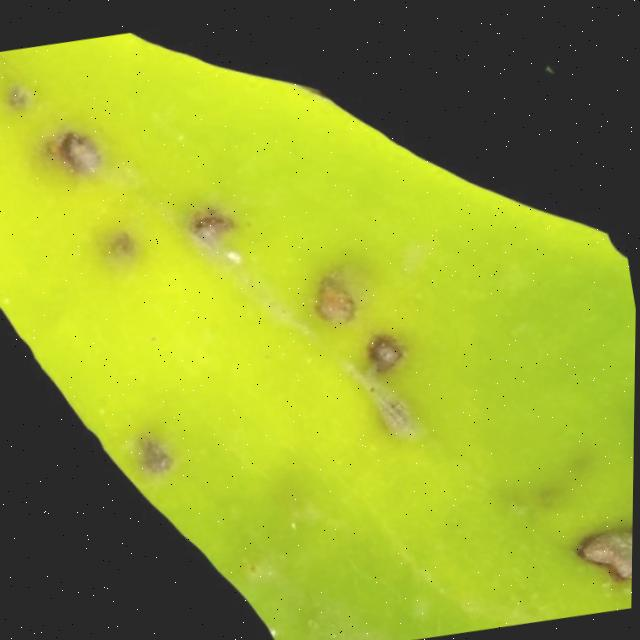mite: (0, 7, 434, 500), (363, 372, 415, 435), (184, 198, 239, 246), (362, 325, 408, 373), (0, 71, 41, 120), (95, 223, 140, 264), (0, 79, 32, 114)
sunburn: (0, 7, 637, 640), (568, 515, 634, 591)
